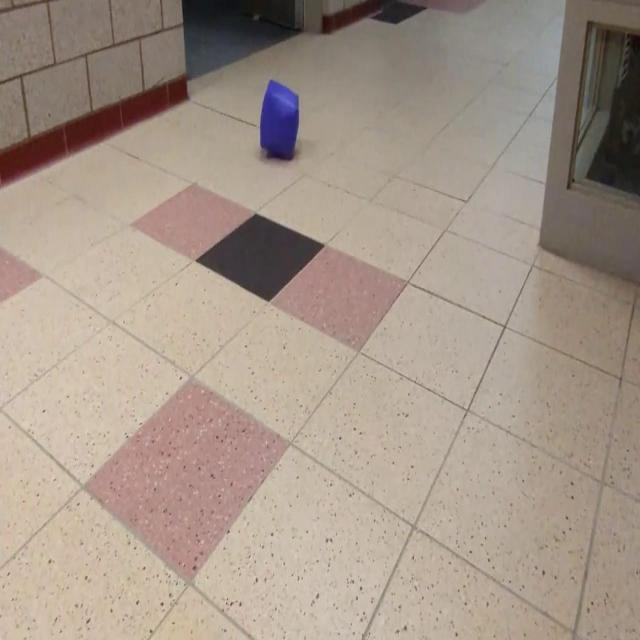frc_cube: (259, 79, 299, 163)
